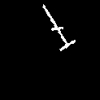double_crochet: (43, 5, 74, 50)
